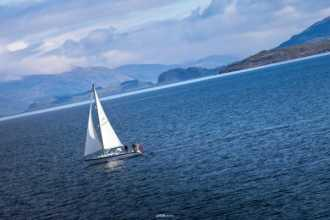fanchuan: (75, 75, 145, 167)
